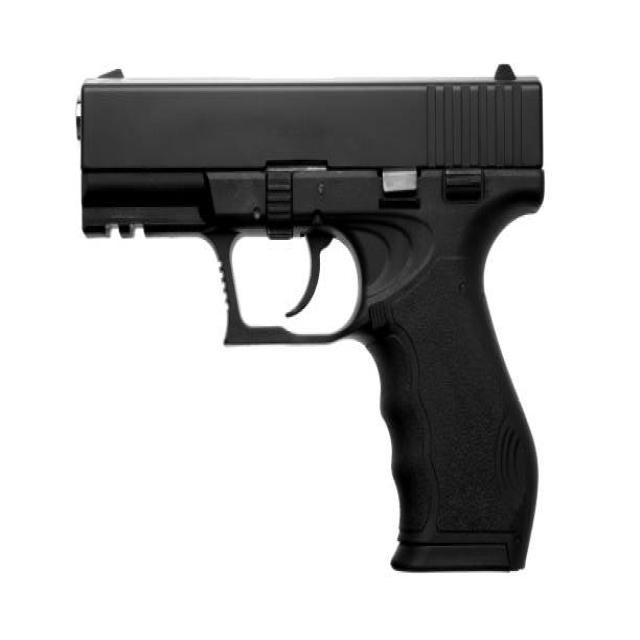pistol: (71, 50, 555, 584)
